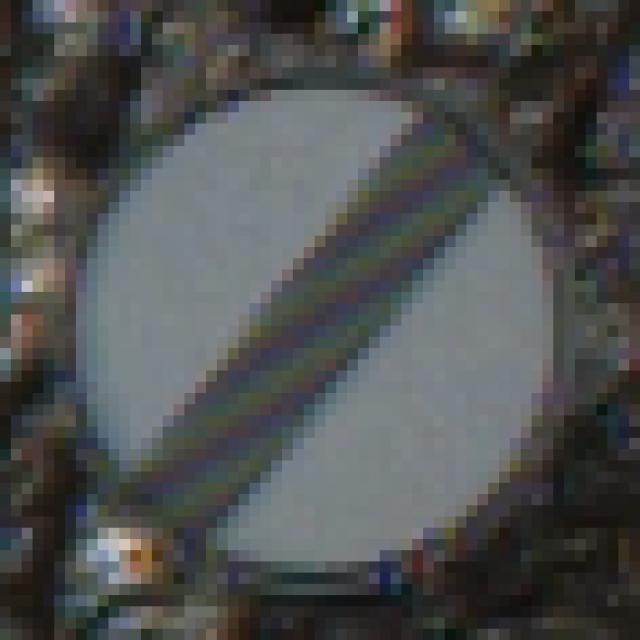restriction ends: (60, 64, 582, 594)
